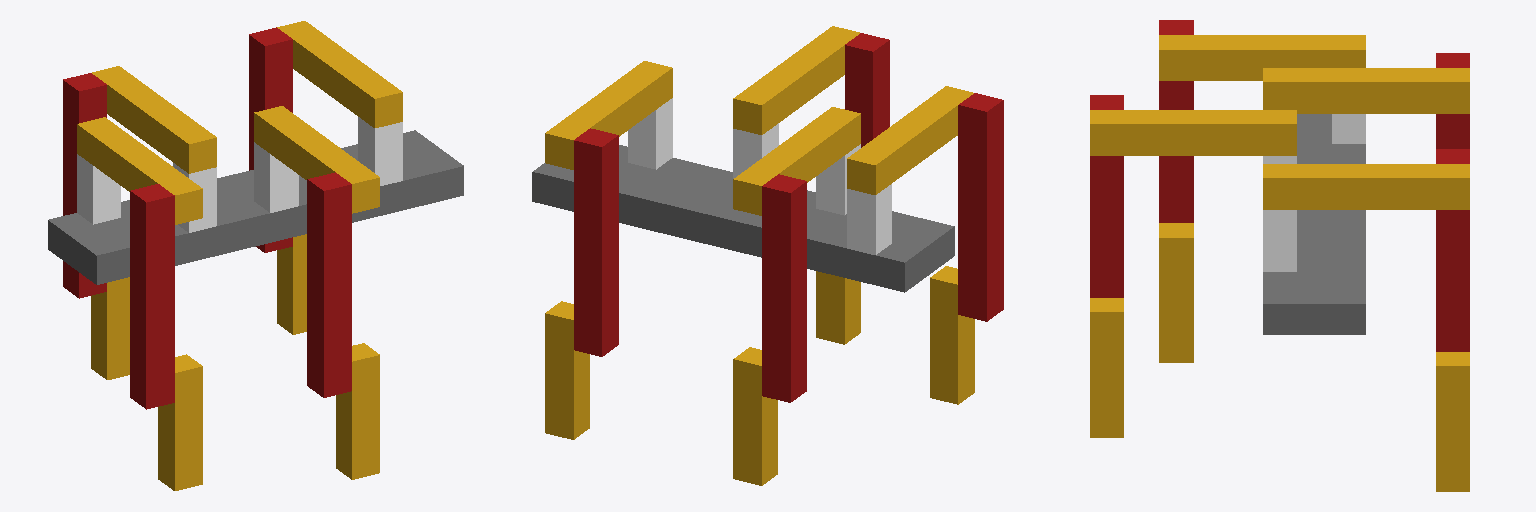
The robot description file, URDF, robot "v0":
<?xml version="1.0" encoding="utf-8"?>
<!-- =================================================================================== -->
<!-- |    This document was autogenerated by xacro from ../robots/v0variants/xacros/v0_4l_31.xacro | -->
<!-- |    EDITING THIS FILE BY HAND IS NOT RECOMMENDED                                 | -->
<!-- =================================================================================== -->
<robot name="v0">
  <material name="grey">
    <color rgba="0.5 0.5 0.5 1"/>
  </material>
  <material name="white">
    <color rgba="1 1 1 1"/>
  </material>
  <material name="yellow">
    <color rgba="0.91 0.7 0.14 1"/>
  </material>
  <material name="red">
    <color rgba="0.71 0.14 0.14 1"/>
  </material>
  <link name="body">
    <visual>
      <geometry>
        <box size="1.3 0.3 0.1"/>
      </geometry>
      <material name="grey"/>
      <origin rpy="0 0 0" xyz="0 0 0.7"/>
    </visual>
    <collision>
      <geometry>
        <box size="1.3 0.3 0.1"/>
      </geometry>
      <origin rpy="0 0 0" xyz="0 0 0.7"/>
    </collision>
    <inertial>
      <mass value="99.84"/>
      <inertia ixx="0.832" ixy="0.0" ixz="0.0" iyy="14.144" iyz="0.0" izz="14.8096"/>
    </inertial>
  </link>
  <link name="l1_segment_1">
    <visual>
      <geometry>
        <box size="0.1 0.1 0.2"/>
      </geometry>
      <material name="white"/>
      <origin rpy="0 0 0" xyz="0 0 0.1"/>
    </visual>
    <collision>
      <geometry>
        <box size="0.1 0.1 0.2"/>
      </geometry>
      <origin rpy="0 0 0" xyz="0 0 0.1"/>
    </collision>
    <inertial>
      <mass value="5.12"/>
      <inertia ixx="0.0213333333333" ixy="0.0" ixz="0.0" iyy="0.0213333333333" iyz="0.0" izz="0.00853333333333"/>
    </inertial>
  </link>
  <joint name="l1_base_to_joint_1" type="fixed">
    <parent link="body"/>
    <child link="l1_segment_1"/>
    <origin rpy="0 0 0" xyz="0.3834517044982487 -0.1 0.75"/>
  </joint>
  <link name="l1_segment_2_HIP">
    <visual>
      <geometry>
        <box size="0.1 0.6 0.1"/>
      </geometry>
      <material name="yellow"/>
      <origin rpy="0 0 0" xyz="0 0.25 0"/>
    </visual>
    <collision>
      <geometry>
        <box size="0.1 0.6 0.1"/>
      </geometry>
      <origin rpy="0 0 0" xyz="0 0.25 0"/>
    </collision>
    <inertial>
      <mass value="15.36"/>
      <inertia ixx="0.4736" ixy="0.0" ixz="0.0" iyy="0.0256" iyz="0.0" izz="0.4736"/>
    </inertial>
  </link>
  <joint name="l1_joint_1_to_2" type="revolute">
    <parent link="l1_segment_1"/>
    <child link="l1_segment_2_HIP"/>
    <origin rpy="0 0 0" xyz="0 0 0.25"/>
    <axis xyz="0.0 0.0 1.0"/>
    <limit effort="2048" lower="-1.2" upper="1.2" velocity="20"/>
  </joint>
  <link name="l1_segment_3_THIGH">
    <visual>
      <geometry>
        <box size="0.1 0.1 0.7"/>
      </geometry>
      <material name="red"/>
      <origin rpy="0 0 0" xyz="0 0 -0.3"/>
    </visual>
    <collision>
      <geometry>
        <box size="0.1 0.1 0.7"/>
      </geometry>
      <origin rpy="0 0 0" xyz="0 0 -0.3"/>
    </collision>
    <inertial>
      <mass value="17.92"/>
      <inertia ixx="0.746666666667" ixy="0.0" ixz="0.0" iyy="0.746666666667" iyz="0.0" izz="0.0298666666667"/>
    </inertial>
  </link>
  <joint name="l1_joint_2_to_3" type="revolute">
    <parent link="l1_segment_2_HIP"/>
    <child link="l1_segment_3_THIGH"/>
    <origin rpy="0 0 0" xyz="-0.1 0.5 0"/>
    <axis xyz="1.0 0.0 0.0"/>
    <limit effort="2048" lower="-0.2" upper="0.75" velocity="20"/>
  </joint>
  <link name="l1_segment_4_FOOT">
    <visual>
      <geometry>
        <box size="0.1 0.1 0.4"/>
      </geometry>
      <material name="yellow"/>
      <origin rpy="0 0 0" xyz="0 0 -0.2"/>
    </visual>
    <collision>
      <geometry>
        <box size="0.1 0.1 0.4"/>
      </geometry>
      <origin rpy="0 0 0" xyz="0 0 -0.2"/>
    </collision>
    <inertial>
      <mass value="10.24"/>
      <inertia ixx="0.145066666667" ixy="0.0" ixz="0.0" iyy="0.145066666667" iyz="0.0" izz="0.0170666666667"/>
    </inertial>
  </link>
  <joint name="l1_joint_3_to_4_FOOT" type="revolute">
    <parent link="l1_segment_3_THIGH"/>
    <child link="l1_segment_4_FOOT"/>
    <origin rpy="0 0 0" xyz="0.1 0 -0.55"/>
    <axis xyz="1.0 0.0 0.0"/>
    <limit effort="2048" lower="-0.2" upper="0.5" velocity="20"/>
  </joint>
  <link name="r2_segment_1">
    <visual>
      <geometry>
        <box size="0.1 0.1 0.2"/>
      </geometry>
      <material name="white"/>
      <origin rpy="0 0 0" xyz="0 0 0.1"/>
    </visual>
    <collision>
      <geometry>
        <box size="0.1 0.1 0.2"/>
      </geometry>
      <origin rpy="0 0 0" xyz="0 0 0.1"/>
    </collision>
    <inertial>
      <mass value="5.12"/>
      <inertia ixx="0.0213333333333" ixy="0.0" ixz="0.0" iyy="0.0213333333333" iyz="0.0" izz="0.00853333333333"/>
    </inertial>
  </link>
  <joint name="r2_base_to_joint_1" type="fixed">
    <parent link="body"/>
    <child link="r2_segment_1"/>
    <origin rpy="0 0 0" xyz="-0.4971481338728493 0.1 0.75"/>
  </joint>
  <link name="r2_segment_2_HIP">
    <visual>
      <geometry>
        <box size="0.1 0.6 0.1"/>
      </geometry>
      <material name="yellow"/>
      <origin rpy="0 0 0" xyz="0 -0.25 0"/>
    </visual>
    <collision>
      <geometry>
        <box size="0.1 0.6 0.1"/>
      </geometry>
      <origin rpy="0 0 0" xyz="0 -0.25 0"/>
    </collision>
    <inertial>
      <mass value="15.36"/>
      <inertia ixx="0.4736" ixy="0.0" ixz="0.0" iyy="0.0256" iyz="0.0" izz="0.4736"/>
    </inertial>
  </link>
  <joint name="r2_joint_1_to_2" type="revolute">
    <parent link="r2_segment_1"/>
    <child link="r2_segment_2_HIP"/>
    <origin rpy="0 0 0" xyz="0 0 0.25"/>
    <axis xyz="0.0 0.0 1.0"/>
    <limit effort="2048" lower="-1.2" upper="1.2" velocity="20"/>
  </joint>
  <link name="r2_segment_3_THIGH">
    <visual>
      <geometry>
        <box size="0.1 0.1 0.7"/>
      </geometry>
      <material name="red"/>
      <origin rpy="0 0 0" xyz="0 0 -0.3"/>
    </visual>
    <collision>
      <geometry>
        <box size="0.1 0.1 0.7"/>
      </geometry>
      <origin rpy="0 0 0" xyz="0 0 -0.3"/>
    </collision>
    <inertial>
      <mass value="17.92"/>
      <inertia ixx="0.746666666667" ixy="0.0" ixz="0.0" iyy="0.746666666667" iyz="0.0" izz="0.0298666666667"/>
    </inertial>
  </link>
  <joint name="r2_joint_2_to_3" type="revolute">
    <parent link="r2_segment_2_HIP"/>
    <child link="r2_segment_3_THIGH"/>
    <origin rpy="0 0 0" xyz="-0.1 -0.5 0"/>
    <axis xyz="1.0 0.0 0.0"/>
    <limit effort="2048" lower="-0.75" upper="0.2" velocity="20"/>
  </joint>
  <link name="r2_segment_4_FOOT">
    <visual>
      <geometry>
        <box size="0.1 0.1 0.4"/>
      </geometry>
      <material name="yellow"/>
      <origin rpy="0 0 0" xyz="0 0 -0.2"/>
    </visual>
    <collision>
      <geometry>
        <box size="0.1 0.1 0.4"/>
      </geometry>
      <origin rpy="0 0 0" xyz="0 0 -0.2"/>
    </collision>
    <inertial>
      <mass value="10.24"/>
      <inertia ixx="0.145066666667" ixy="0.0" ixz="0.0" iyy="0.145066666667" iyz="0.0" izz="0.0170666666667"/>
    </inertial>
  </link>
  <joint name="r2_joint_3_to_4_FOOT" type="revolute">
    <parent link="r2_segment_3_THIGH"/>
    <child link="r2_segment_4_FOOT"/>
    <origin rpy="0 0 0" xyz="0.1 0 -0.55"/>
    <axis xyz="1.0 0.0 0.0"/>
    <limit effort="2048" lower="-0.5" upper="0.2" velocity="20"/>
  </joint>
  <link name="l3_segment_1">
    <visual>
      <geometry>
        <box size="0.1 0.1 0.2"/>
      </geometry>
      <material name="white"/>
      <origin rpy="0 0 0" xyz="0 0 0.1"/>
    </visual>
    <collision>
      <geometry>
        <box size="0.1 0.1 0.2"/>
      </geometry>
      <origin rpy="0 0 0" xyz="0 0 0.1"/>
    </collision>
    <inertial>
      <mass value="5.12"/>
      <inertia ixx="0.0213333333333" ixy="0.0" ixz="0.0" iyy="0.0213333333333" iyz="0.0" izz="0.00853333333333"/>
    </inertial>
  </link>
  <joint name="l3_base_to_joint_1" type="fixed">
    <parent link="body"/>
    <child link="l3_segment_1"/>
    <origin rpy="0 0 0" xyz="-0.2736980528044358 -0.1 0.75"/>
  </joint>
  <link name="l3_segment_2_HIP">
    <visual>
      <geometry>
        <box size="0.1 0.6 0.1"/>
      </geometry>
      <material name="yellow"/>
      <origin rpy="0 0 0" xyz="0 0.25 0"/>
    </visual>
    <collision>
      <geometry>
        <box size="0.1 0.6 0.1"/>
      </geometry>
      <origin rpy="0 0 0" xyz="0 0.25 0"/>
    </collision>
    <inertial>
      <mass value="15.36"/>
      <inertia ixx="0.4736" ixy="0.0" ixz="0.0" iyy="0.0256" iyz="0.0" izz="0.4736"/>
    </inertial>
  </link>
  <joint name="l3_joint_1_to_2" type="revolute">
    <parent link="l3_segment_1"/>
    <child link="l3_segment_2_HIP"/>
    <origin rpy="0 0 0" xyz="0 0 0.25"/>
    <axis xyz="0.0 0.0 1.0"/>
    <limit effort="2048" lower="-1.2" upper="1.2" velocity="20"/>
  </joint>
  <link name="l3_segment_3_THIGH">
    <visual>
      <geometry>
        <box size="0.1 0.1 0.7"/>
      </geometry>
      <material name="red"/>
      <origin rpy="0 0 0" xyz="0 0 -0.3"/>
    </visual>
    <collision>
      <geometry>
        <box size="0.1 0.1 0.7"/>
      </geometry>
      <origin rpy="0 0 0" xyz="0 0 -0.3"/>
    </collision>
    <inertial>
      <mass value="17.92"/>
      <inertia ixx="0.746666666667" ixy="0.0" ixz="0.0" iyy="0.746666666667" iyz="0.0" izz="0.0298666666667"/>
    </inertial>
  </link>
  <joint name="l3_joint_2_to_3" type="revolute">
    <parent link="l3_segment_2_HIP"/>
    <child link="l3_segment_3_THIGH"/>
    <origin rpy="0 0 0" xyz="-0.1 0.5 0"/>
    <axis xyz="1.0 0.0 0.0"/>
    <limit effort="2048" lower="-0.2" upper="0.75" velocity="20"/>
  </joint>
  <link name="l3_segment_4_FOOT">
    <visual>
      <geometry>
        <box size="0.1 0.1 0.4"/>
      </geometry>
      <material name="yellow"/>
      <origin rpy="0 0 0" xyz="0 0 -0.2"/>
    </visual>
    <collision>
      <geometry>
        <box size="0.1 0.1 0.4"/>
      </geometry>
      <origin rpy="0 0 0" xyz="0 0 -0.2"/>
    </collision>
    <inertial>
      <mass value="10.24"/>
      <inertia ixx="0.145066666667" ixy="0.0" ixz="0.0" iyy="0.145066666667" iyz="0.0" izz="0.0170666666667"/>
    </inertial>
  </link>
  <joint name="l3_joint_3_to_4_FOOT" type="revolute">
    <parent link="l3_segment_3_THIGH"/>
    <child link="l3_segment_4_FOOT"/>
    <origin rpy="0 0 0" xyz="0.1 0 -0.55"/>
    <axis xyz="1.0 0.0 0.0"/>
    <limit effort="2048" lower="-0.2" upper="0.5" velocity="20"/>
  </joint>
  <link name="r4_segment_1">
    <visual>
      <geometry>
        <box size="0.1 0.1 0.2"/>
      </geometry>
      <material name="white"/>
      <origin rpy="0 0 0" xyz="0 0 0.1"/>
    </visual>
    <collision>
      <geometry>
        <box size="0.1 0.1 0.2"/>
      </geometry>
      <origin rpy="0 0 0" xyz="0 0 0.1"/>
    </collision>
    <inertial>
      <mass value="5.12"/>
      <inertia ixx="0.0213333333333" ixy="0.0" ixz="0.0" iyy="0.0213333333333" iyz="0.0" izz="0.00853333333333"/>
    </inertial>
  </link>
  <joint name="r4_base_to_joint_1" type="fixed">
    <parent link="body"/>
    <child link="r4_segment_1"/>
    <origin rpy="0 0 0" xyz="0.014567320375738269 -0.1 0.75"/>
  </joint>
  <link name="r4_segment_2_HIP">
    <visual>
      <geometry>
        <box size="0.1 0.6 0.1"/>
      </geometry>
      <material name="yellow"/>
      <origin rpy="0 0 0" xyz="0 -0.25 0"/>
    </visual>
    <collision>
      <geometry>
        <box size="0.1 0.6 0.1"/>
      </geometry>
      <origin rpy="0 0 0" xyz="0 -0.25 0"/>
    </collision>
    <inertial>
      <mass value="15.36"/>
      <inertia ixx="0.4736" ixy="0.0" ixz="0.0" iyy="0.0256" iyz="0.0" izz="0.4736"/>
    </inertial>
  </link>
  <joint name="r4_joint_1_to_2" type="revolute">
    <parent link="r4_segment_1"/>
    <child link="r4_segment_2_HIP"/>
    <origin rpy="0 0 0" xyz="0 0 0.25"/>
    <axis xyz="0.0 0.0 1.0"/>
    <limit effort="2048" lower="-1.2" upper="1.2" velocity="20"/>
  </joint>
  <link name="r4_segment_3_THIGH">
    <visual>
      <geometry>
        <box size="0.1 0.1 0.7"/>
      </geometry>
      <material name="red"/>
      <origin rpy="0 0 0" xyz="0 0 -0.3"/>
    </visual>
    <collision>
      <geometry>
        <box size="0.1 0.1 0.7"/>
      </geometry>
      <origin rpy="0 0 0" xyz="0 0 -0.3"/>
    </collision>
    <inertial>
      <mass value="17.92"/>
      <inertia ixx="0.746666666667" ixy="0.0" ixz="0.0" iyy="0.746666666667" iyz="0.0" izz="0.0298666666667"/>
    </inertial>
  </link>
  <joint name="r4_joint_2_to_3" type="revolute">
    <parent link="r4_segment_2_HIP"/>
    <child link="r4_segment_3_THIGH"/>
    <origin rpy="0 0 0" xyz="-0.1 -0.5 0"/>
    <axis xyz="1.0 0.0 0.0"/>
    <limit effort="2048" lower="-0.75" upper="0.2" velocity="20"/>
  </joint>
  <link name="r4_segment_4_FOOT">
    <visual>
      <geometry>
        <box size="0.1 0.1 0.4"/>
      </geometry>
      <material name="yellow"/>
      <origin rpy="0 0 0" xyz="0 0 -0.2"/>
    </visual>
    <collision>
      <geometry>
        <box size="0.1 0.1 0.4"/>
      </geometry>
      <origin rpy="0 0 0" xyz="0 0 -0.2"/>
    </collision>
    <inertial>
      <mass value="10.24"/>
      <inertia ixx="0.145066666667" ixy="0.0" ixz="0.0" iyy="0.145066666667" iyz="0.0" izz="0.0170666666667"/>
    </inertial>
  </link>
  <joint name="r4_joint_3_to_4_FOOT" type="revolute">
    <parent link="r4_segment_3_THIGH"/>
    <child link="r4_segment_4_FOOT"/>
    <origin rpy="0 0 0" xyz="0.1 0 -0.55"/>
    <axis xyz="1.0 0.0 0.0"/>
    <limit effort="2048" lower="-0.5" upper="0.2" velocity="20"/>
  </joint>
</robot>

--- What the picture shows (computed from the rendered views, not written in the file) ---
Views: 3 orthographic renders of the robot side by side, from view 1: azimuth 30°, elevation 25°; view 2: azimuth 150°, elevation 25°; view 3: azimuth 270°, elevation 25°.
Model v0 with 17 links and 16 joints (12 revolute, 4 fixed), rooted at body, posed every joint at zero.
Visible links, largest first — view 1: body, r2_segment_3_THIGH, r4_segment_3_THIGH, l3_segment_2_HIP, l1_segment_2_HIP, r4_segment_2_HIP, r2_segment_2_HIP, r2_segment_4_FOOT, r4_segment_4_FOOT, l3_segment_3_THIGH, l1_segment_3_THIGH, l3_segment_4_FOOT (+5 smaller); view 2: body, r2_segment_3_THIGH, l1_segment_3_THIGH, l3_segment_3_THIGH, r4_segment_2_HIP, r2_segment_2_HIP, l1_segment_2_HIP, l3_segment_2_HIP, l1_segment_4_FOOT, l3_segment_4_FOOT, r2_segment_4_FOOT, r4_segment_3_THIGH (+5 smaller); view 3: body, l1_segment_2_HIP, r4_segment_2_HIP, l3_segment_2_HIP, r2_segment_2_HIP, l1_segment_3_THIGH, r4_segment_3_THIGH, r2_segment_4_FOOT, l1_segment_4_FOOT, r4_segment_4_FOOT, r2_segment_3_THIGH, l1_segment_1 (+2 smaller).
Link boxes in pixels (box(x1,y1,x2,y2)): body: box(48, 130, 463, 284); r2_segment_3_THIGH: box(130, 184, 174, 409); r4_segment_3_THIGH: box(307, 172, 351, 397); l3_segment_2_HIP: box(92, 66, 216, 173); l1_segment_2_HIP: box(277, 21, 402, 127); r4_segment_2_HIP: box(254, 106, 379, 213); r2_segment_2_HIP: box(77, 117, 202, 224); r2_segment_4_FOOT: box(158, 354, 202, 490); r4_segment_4_FOOT: box(336, 343, 379, 479); l3_segment_3_THIGH: box(63, 73, 106, 298); l1_segment_3_THIGH: box(249, 27, 292, 252); l3_segment_4_FOOT: box(91, 277, 129, 379); body: box(532, 145, 954, 292); r2_segment_3_THIGH: box(958, 93, 1003, 321); l1_segment_3_THIGH: box(574, 128, 618, 356); l3_segment_3_THIGH: box(762, 174, 806, 402); r4_segment_2_HIP: box(733, 26, 859, 134); r2_segment_2_HIP: box(847, 86, 973, 194); l1_segment_2_HIP: box(545, 61, 672, 169); l3_segment_2_HIP: box(733, 107, 860, 215); l1_segment_4_FOOT: box(545, 301, 589, 439); l3_segment_4_FOOT: box(733, 347, 777, 485); r2_segment_4_FOOT: box(930, 266, 974, 404); r4_segment_3_THIGH: box(845, 33, 889, 147); body: box(1263, 114, 1365, 334); l1_segment_2_HIP: box(1263, 164, 1469, 209); r4_segment_2_HIP: box(1090, 110, 1296, 155); l3_segment_2_HIP: box(1263, 68, 1469, 113); r2_segment_2_HIP: box(1159, 35, 1365, 80); l1_segment_3_THIGH: box(1436, 149, 1469, 351); r4_segment_3_THIGH: box(1090, 95, 1123, 297); r2_segment_4_FOOT: box(1159, 223, 1193, 362); l1_segment_4_FOOT: box(1436, 352, 1469, 491); r4_segment_4_FOOT: box(1090, 298, 1123, 437); r2_segment_3_THIGH: box(1159, 20, 1193, 222); l1_segment_1: box(1263, 210, 1296, 271).
Size in the robot's own frame: 1.3 by 1.1 by 1 metres.
Geometry: primitives only (box / cylinder / sphere), no mesh files.
